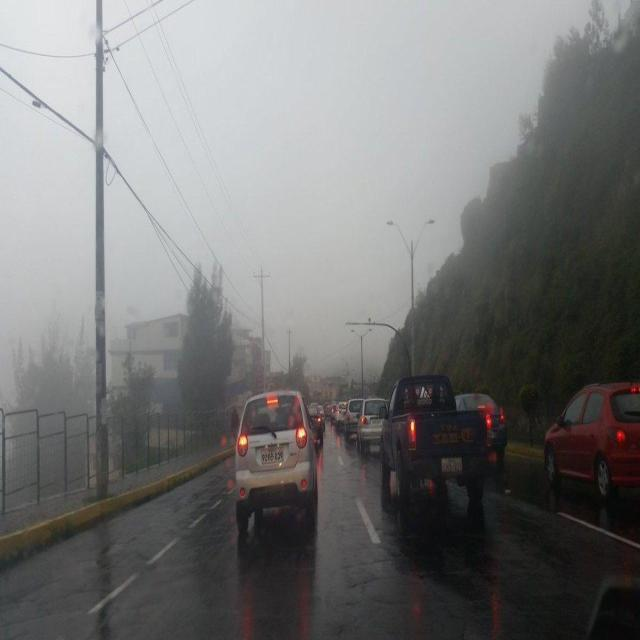Car: (234, 388, 318, 534), (543, 381, 640, 502), (454, 388, 510, 465), (354, 396, 390, 453), (343, 398, 362, 439), (305, 403, 324, 440), (335, 401, 350, 426), (316, 404, 326, 425)
Truck: (378, 374, 488, 506)
